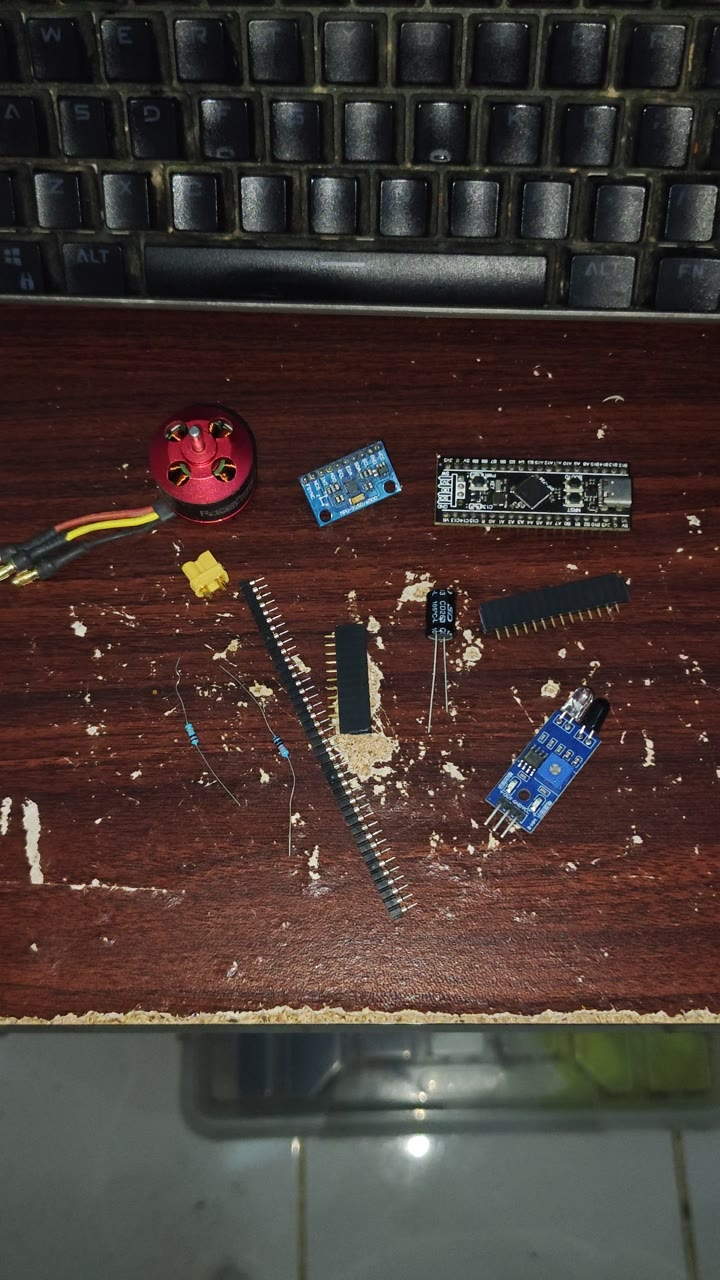bldc_motor: (47, 414, 253, 537)
elco_capacitor: (430, 568, 492, 680)
ir_sensor: (494, 682, 604, 842)
mpu6500: (296, 437, 406, 528)
pin_header: (255, 578, 464, 906), (489, 543, 642, 646), (341, 597, 419, 721)
resistor: (261, 669, 353, 822), (183, 668, 273, 792)
stm32f4: (428, 455, 640, 529)
xt30_female: (188, 548, 277, 616)
